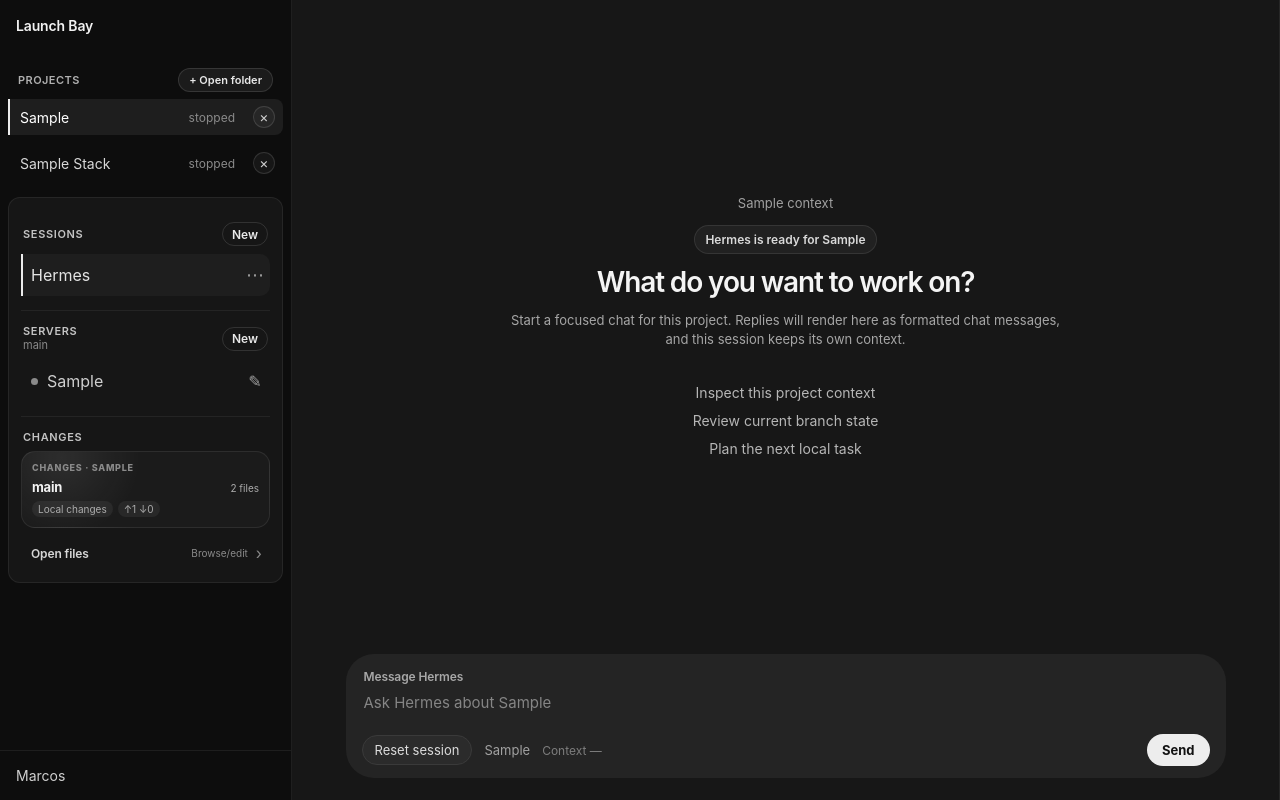
Test case: Launch Bay shell › shows the changes workbench as a floating branch summary card by default and expands it on click
Click the button with aria-label "Expand changes workbench" at [146, 490], box [21,451,270,528]
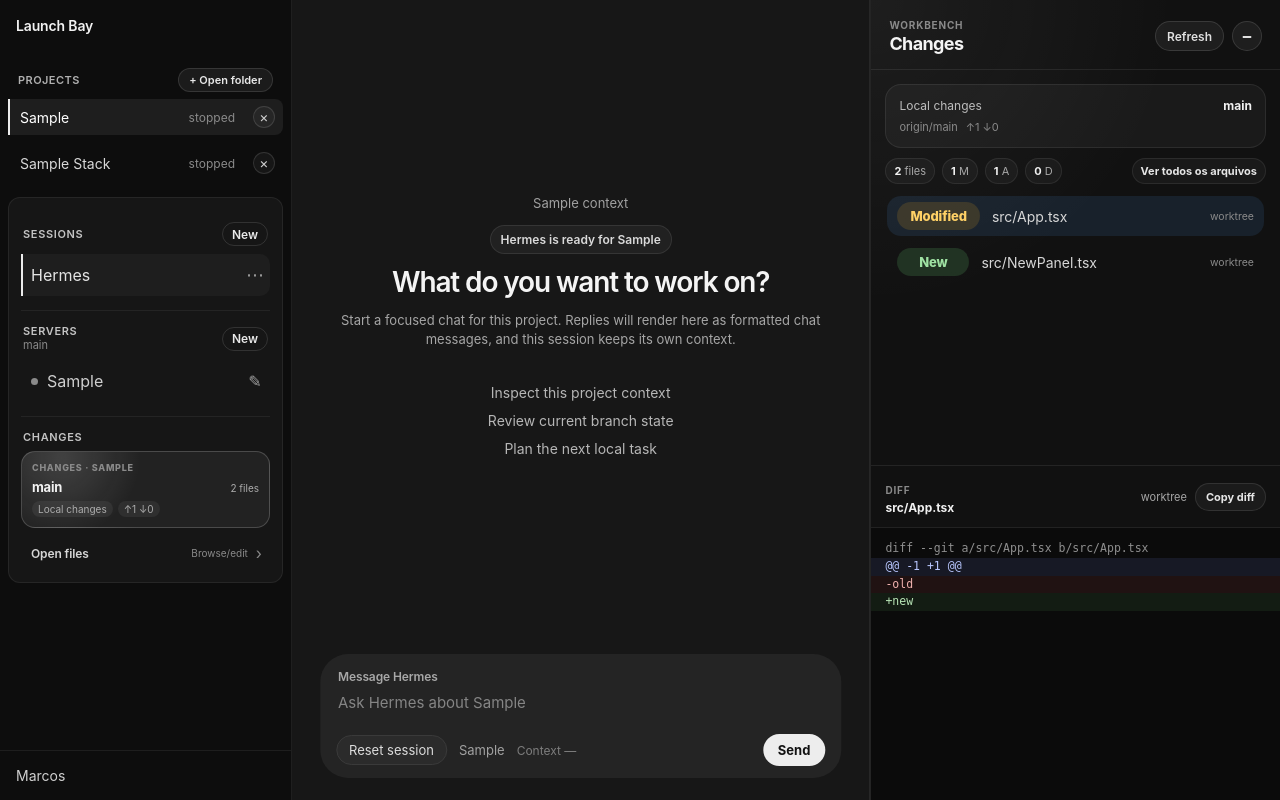
Check: the element named "Diff for src/App.tsx" shows "+new", box [885,594,913,608]
Check: the button named "Minimize changes workbench" is shown, box [1232,21,1262,51]
